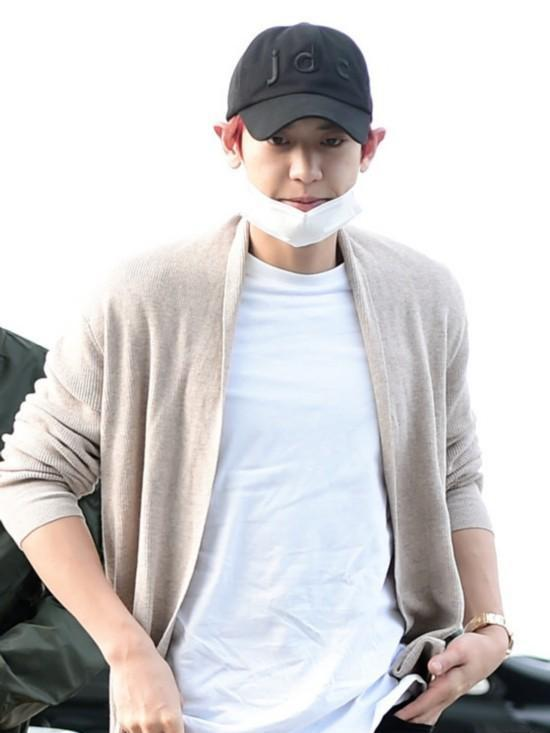WRONG: (245, 114, 357, 238)
